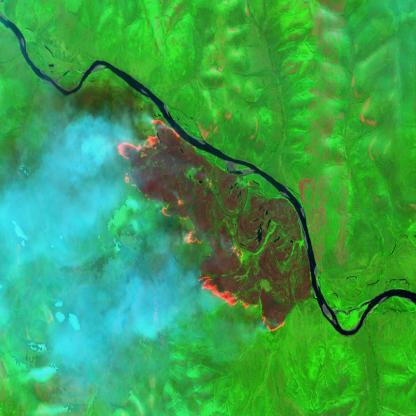fire: (111, 109, 316, 340)
